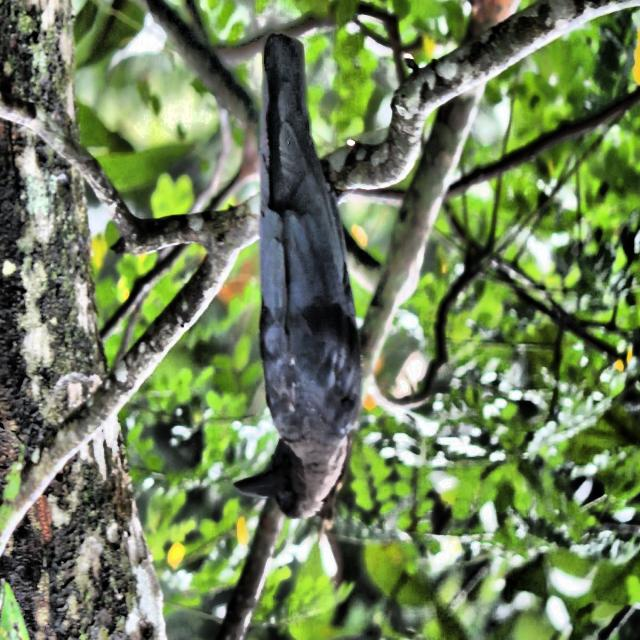crow: (226, 23, 384, 556)
